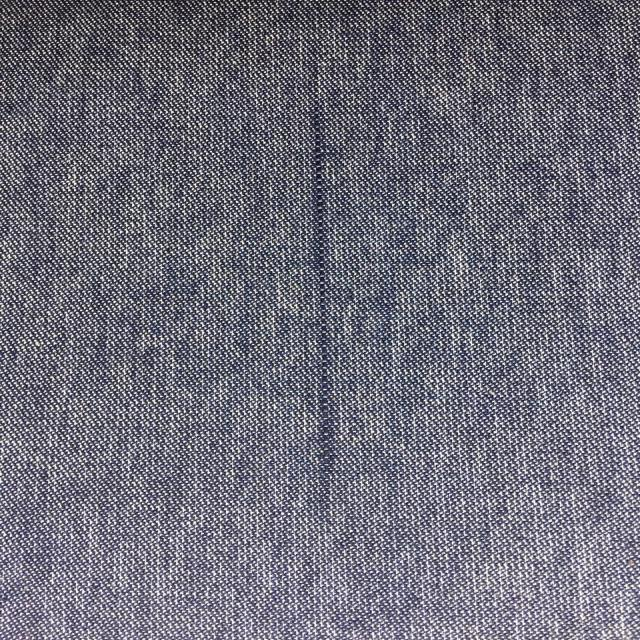Line: (308, 86, 333, 504)
